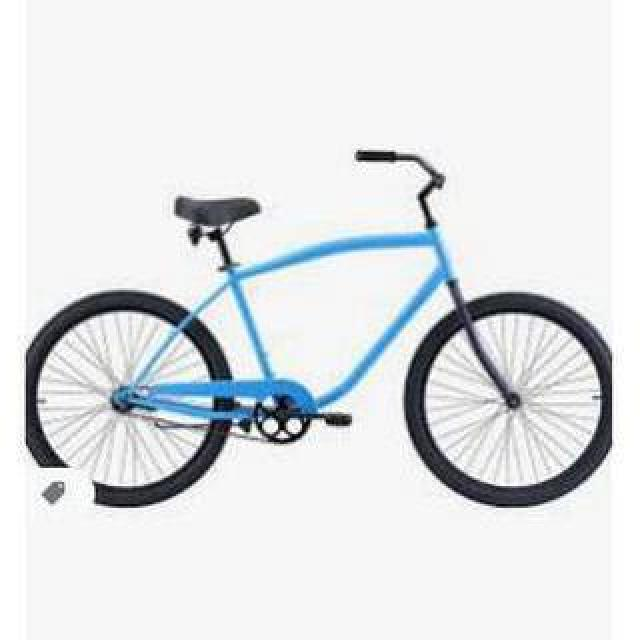Person: (11, 147, 619, 509)
